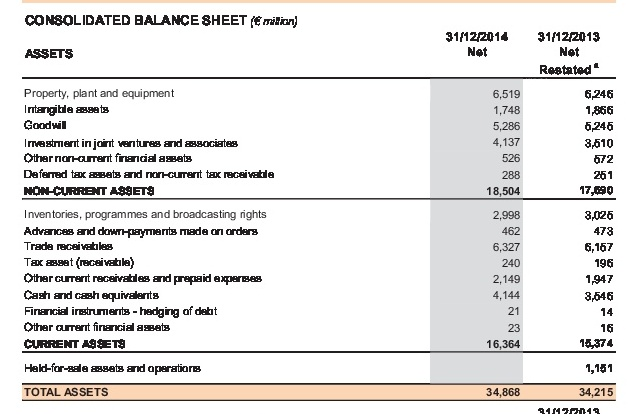table: (0, 0, 628, 414)
